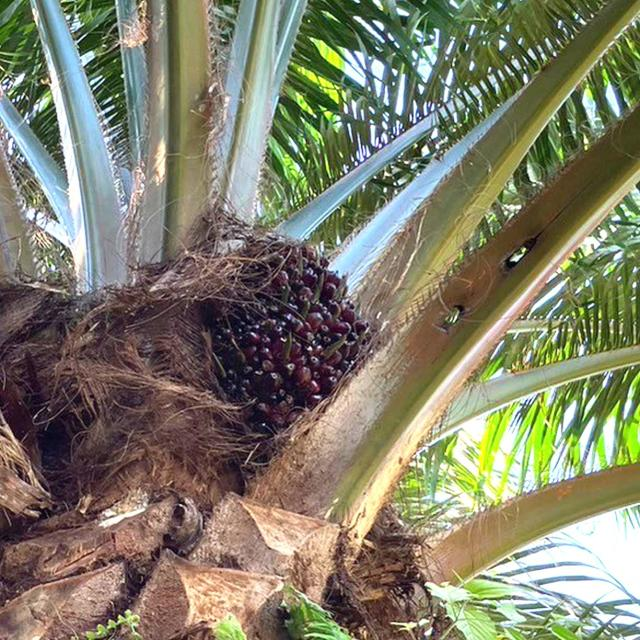almost: (190, 206, 378, 466)
